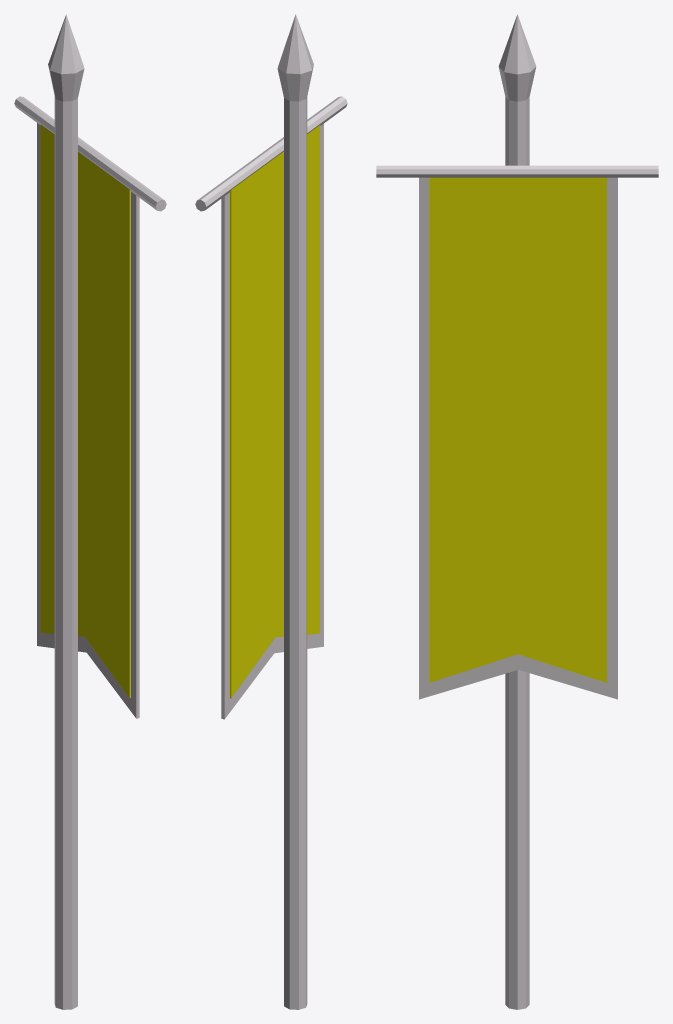
The model's file is Flag.fbx.
The picture shows the model from 3 angles, left to right: view 1: azimuth 30°, elevation 25°; view 2: azimuth 150°, elevation 25°; view 3: azimuth 270°, elevation 25°; orthographic projection.
Visible parts, largest first — view 1: Cube.020, Cylinder.019, Cube.019, Cylinder.018; view 2: Cube.020, Cylinder.019, Cube.019, Cylinder.018; view 3: Cube.020, Cube.019, Cylinder.019, Cylinder.018.
Part boxes in pixels (left/top/right/bottom): Cube.020: left=40, top=124, right=130, bottom=697; Cylinder.019: left=48, top=14, right=84, bottom=1009; Cube.019: left=37, top=123, right=139, bottom=718; Cylinder.018: left=14, top=96, right=166, bottom=211; Cube.020: left=230, top=125, right=320, bottom=698; Cylinder.019: left=277, top=14, right=313, bottom=1009; Cube.019: left=221, top=124, right=323, bottom=719; Cylinder.018: left=195, top=96, right=347, bottom=211; Cube.020: left=429, top=177, right=607, bottom=682; Cube.019: left=419, top=177, right=617, bottom=699; Cylinder.019: left=498, top=14, right=536, bottom=1009; Cylinder.018: left=376, top=165, right=658, bottom=177.
Bounding box in the file's own units: 5.11 × 105 × 27.08.
